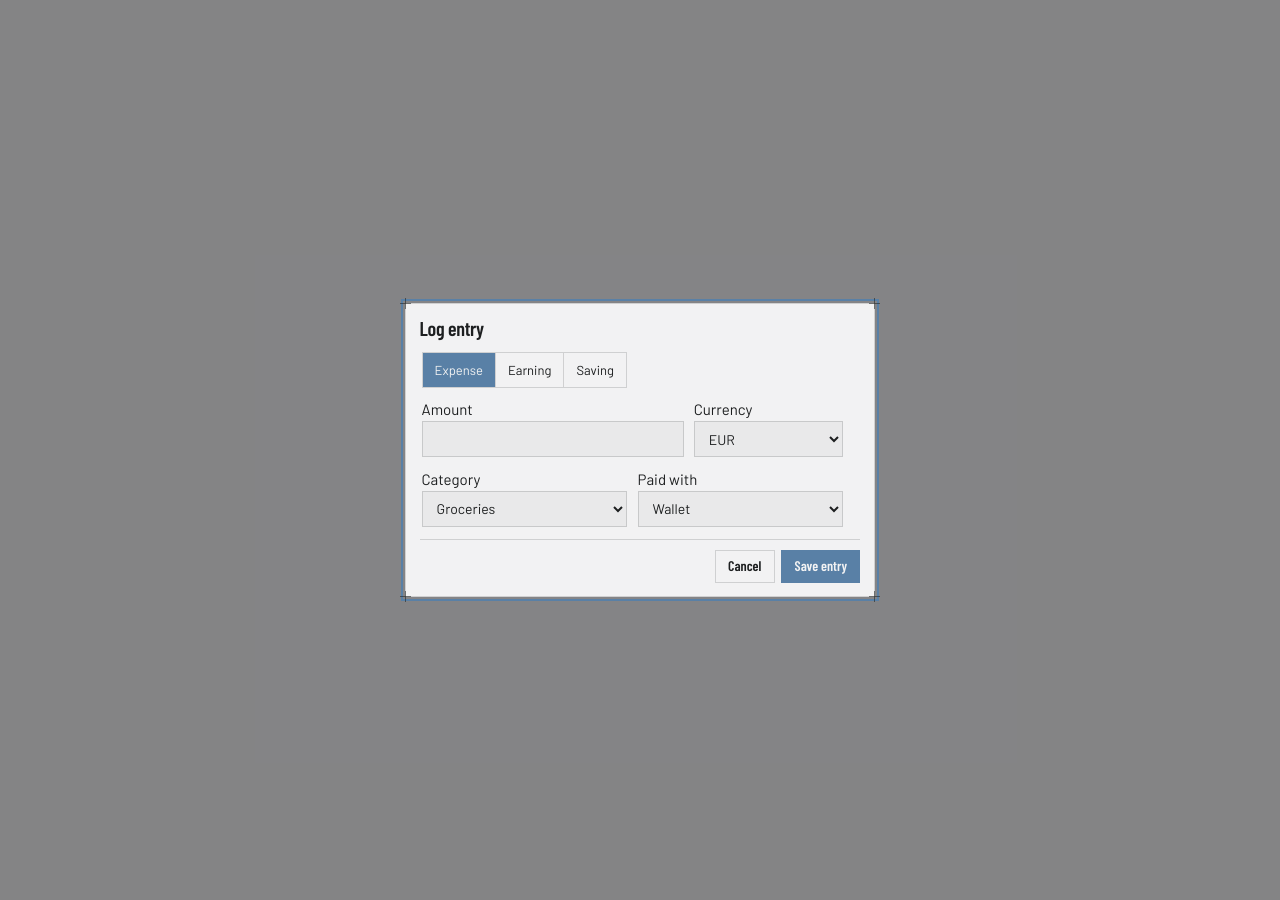
it: LogEntryForm - financing › reveals the calculator once financing is turned on
Type "399" into the field labelled "Amount". click: (553, 440)
box: [422,422,684,458]
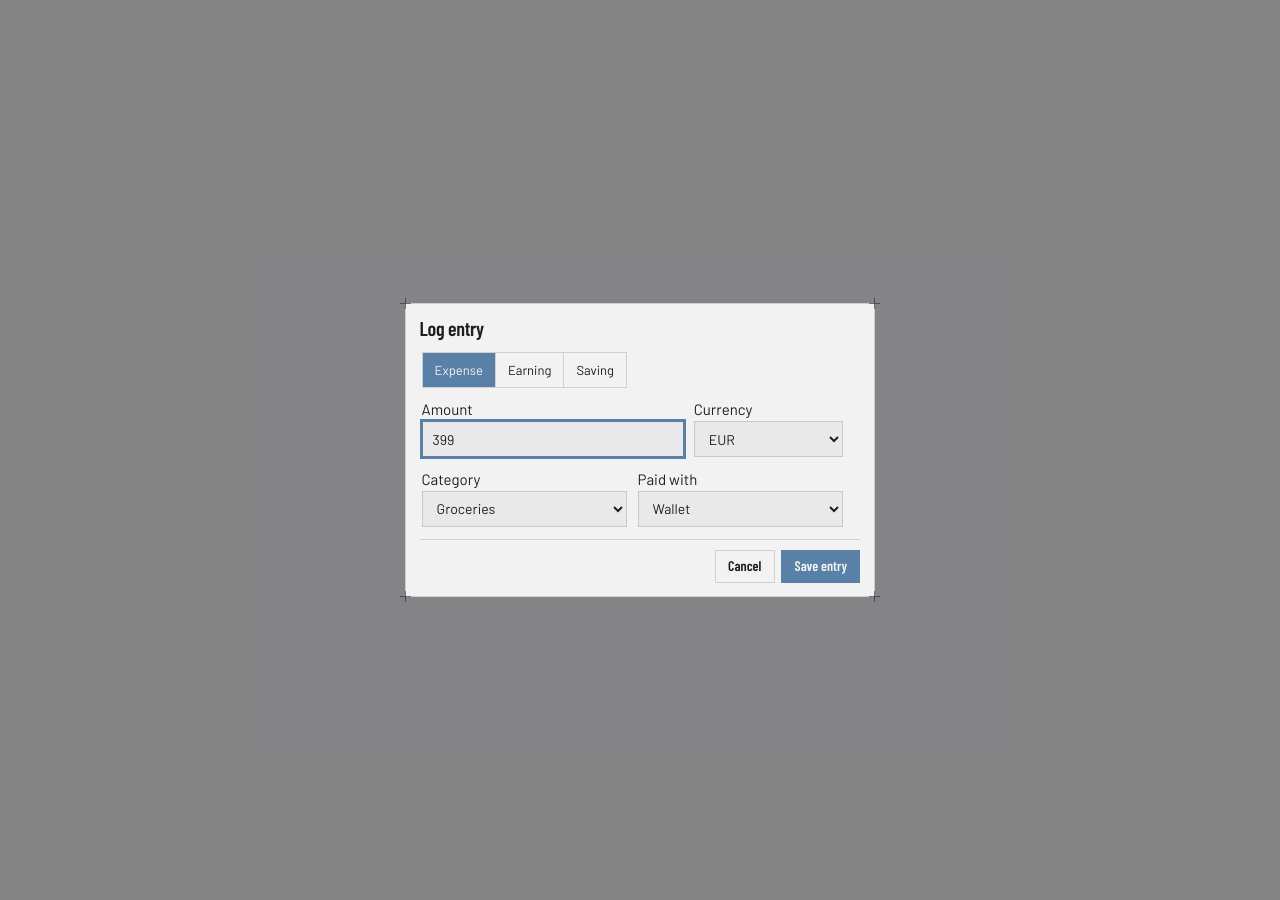
Select "Visa 4417" in the dropdown labelled "Paid with". click: (740, 509)
box: [638,491,843,527]
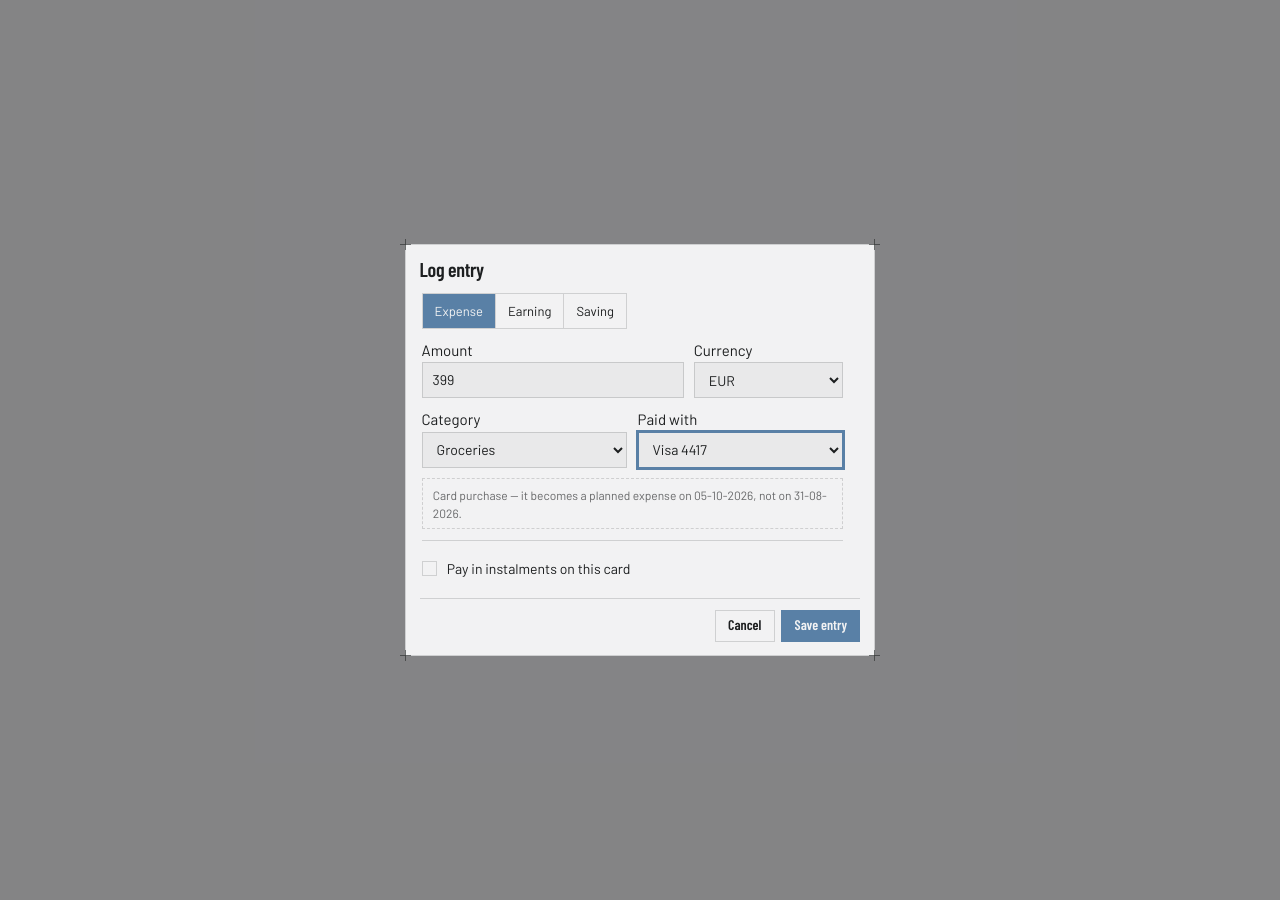
Click the checkbox labelled "Pay in instalments on this card". click: (526, 568)
box: [422,560,630,577]
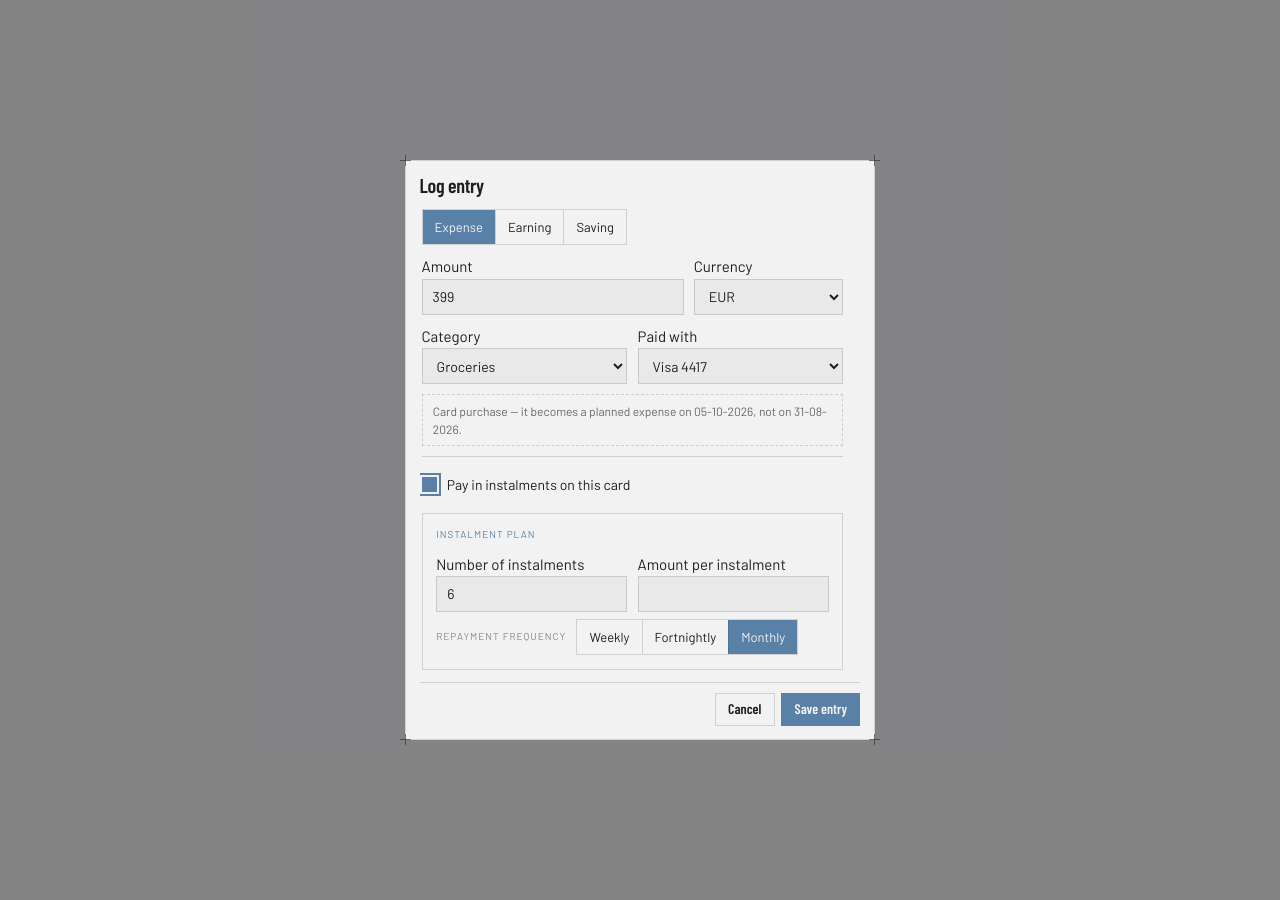
Expected: the field labelled "Number of instalments" is shown, [436,576,627,612]
